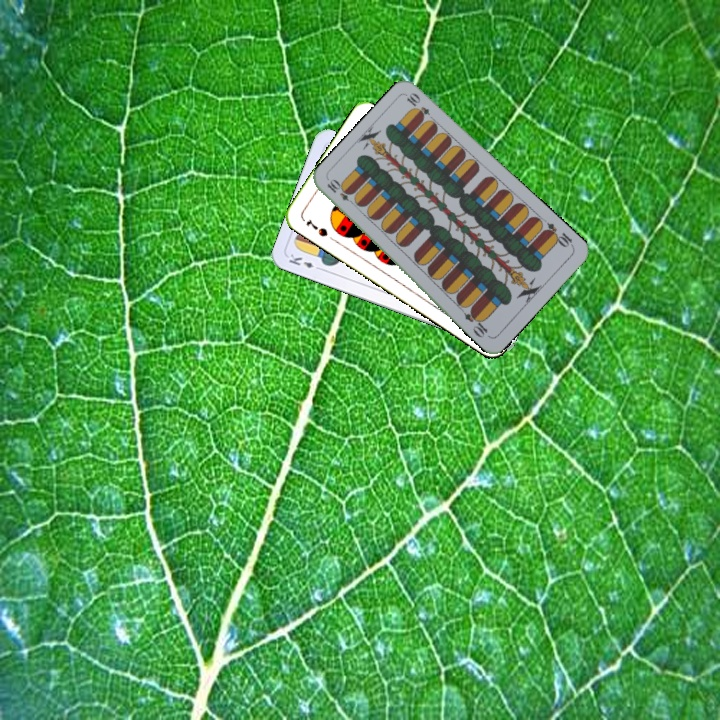E10: (323, 176, 359, 208), (539, 219, 576, 250)
EK: (285, 250, 324, 273)
S7: (302, 215, 330, 239)
